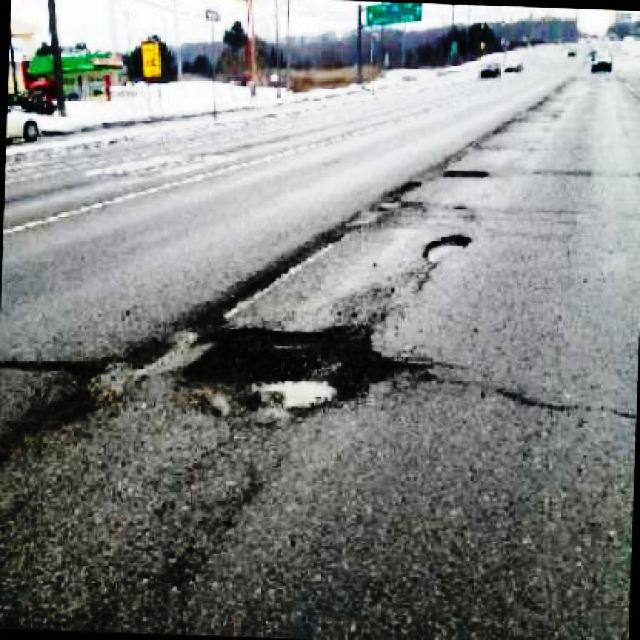pothole: (182, 317, 432, 414), (422, 234, 476, 269)
